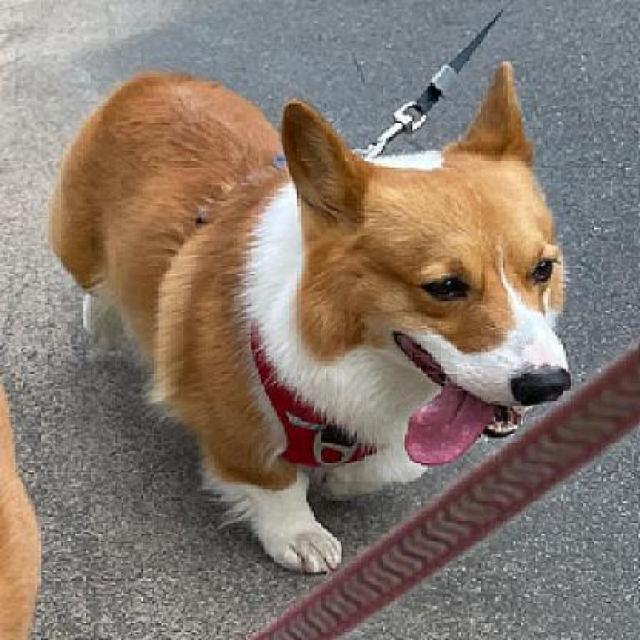Dog: (49, 54, 578, 581)
